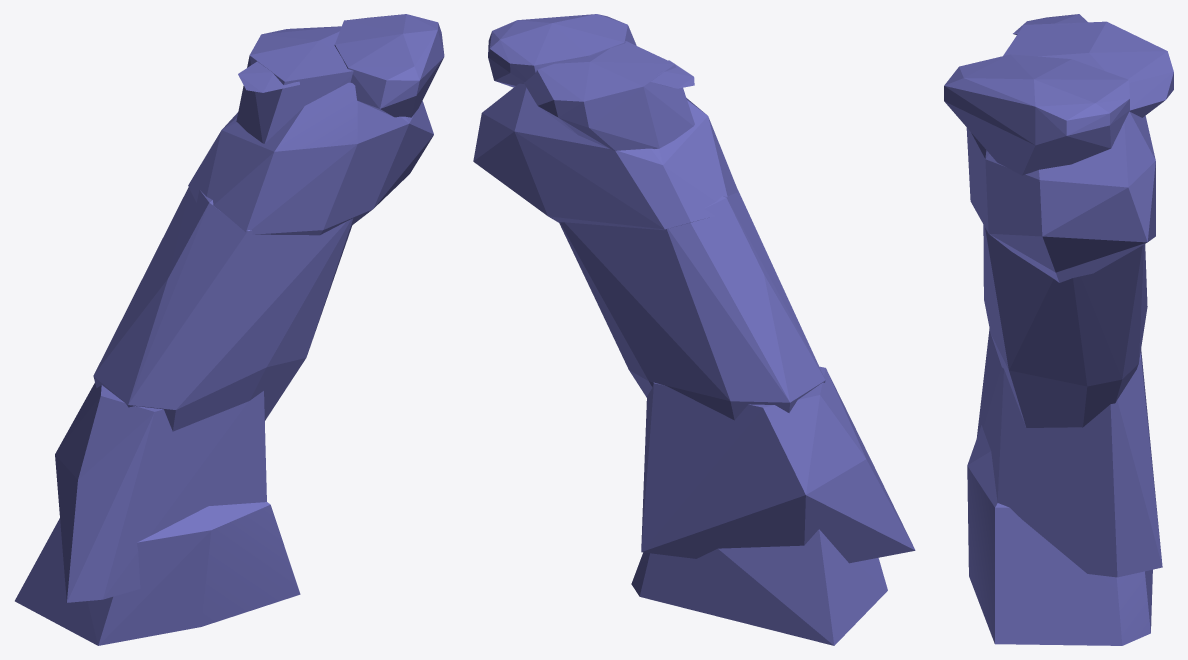
Rendered from Cliff_Spire_05_Arch_Collider_01.FBX.
3 views of the same model, side by side, from view 1: azimuth 30°, elevation 25°; view 2: azimuth 150°, elevation 25°; view 3: azimuth 270°, elevation 25° (orthographic). The views are drawn at different scales.
Visible parts, largest first — view 1: COLLIDER5, COLLIDER4, COLLIDER6, COLLIDER3, COLLIDER1, COLLIDER2, COLLIDER7; view 2: COLLIDER4, COLLIDER5, COLLIDER6, COLLIDER3, COLLIDER2, COLLIDER1, COLLIDER7; view 3: COLLIDER4, COLLIDER5, COLLIDER6, COLLIDER3, COLLIDER1, COLLIDER2, COLLIDER7.
Boxes of the visible parts, x1=… form: COLLIDER5: x1=93, y1=187, x2=353, y2=431; COLLIDER4: x1=55, y1=383, x2=266, y2=602; COLLIDER6: x1=188, y1=82, x2=433, y2=235; COLLIDER3: x1=15, y1=502, x2=300, y2=645; COLLIDER1: x1=334, y1=14, x2=444, y2=117; COLLIDER2: x1=236, y1=26, x2=353, y2=143; COLLIDER7: x1=238, y1=61, x2=299, y2=92; COLLIDER4: x1=641, y1=366, x2=915, y2=563; COLLIDER5: x1=559, y1=190, x2=825, y2=420; COLLIDER6: x1=473, y1=83, x2=738, y2=230; COLLIDER3: x1=631, y1=529, x2=887, y2=645; COLLIDER2: x1=523, y1=41, x2=694, y2=150; COLLIDER1: x1=488, y1=14, x2=636, y2=87; COLLIDER7: x1=651, y1=60, x2=694, y2=88; COLLIDER4: x1=977, y1=328, x2=1162, y2=577; COLLIDER5: x1=983, y1=225, x2=1147, y2=427; COLLIDER6: x1=966, y1=111, x2=1155, y2=282; COLLIDER3: x1=967, y1=425, x2=1152, y2=645; COLLIDER1: x1=944, y1=54, x2=1129, y2=175; COLLIDER2: x1=1003, y1=21, x2=1173, y2=117; COLLIDER7: x1=1013, y1=14, x2=1087, y2=34.
Size of the model in its own units: 560 by 685 by 224.
